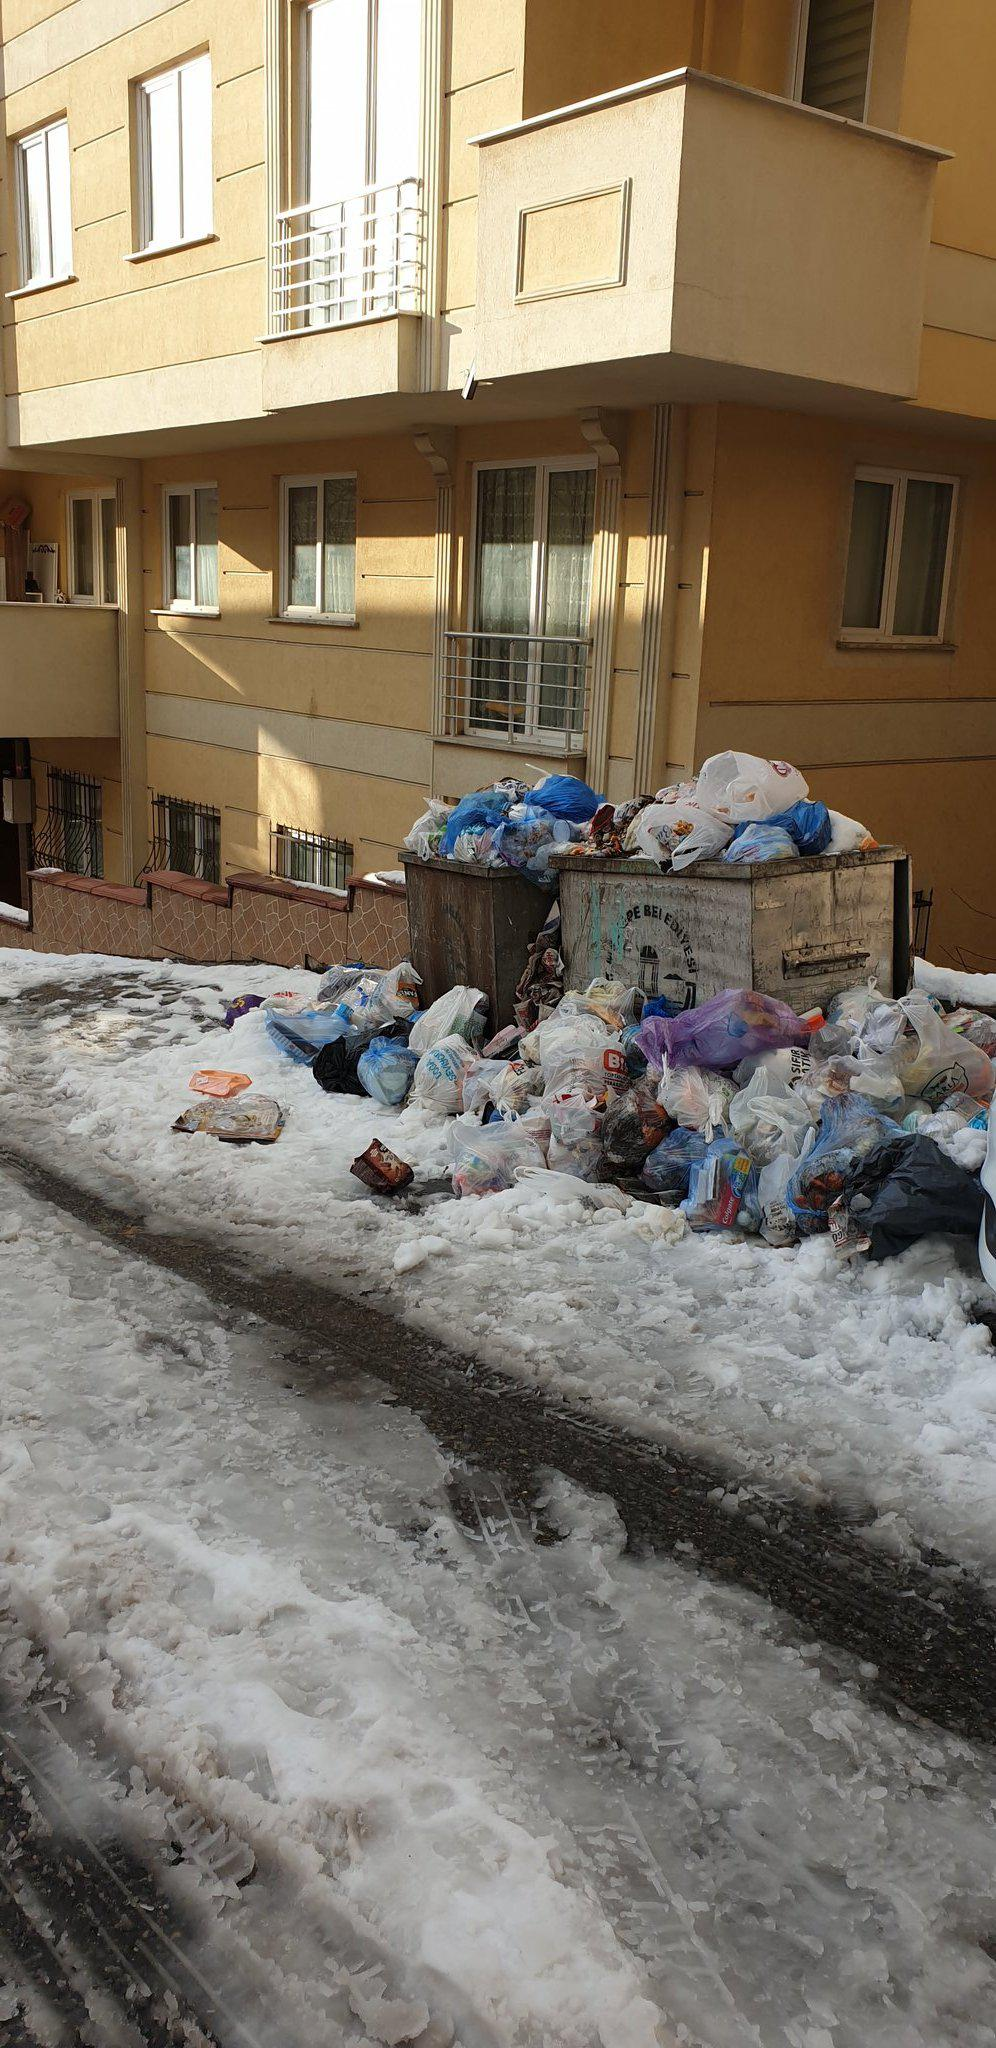Container: (563, 842, 918, 1021), (407, 850, 564, 1006)
Garbage: (335, 993, 996, 1310), (614, 756, 879, 856), (809, 1126, 996, 1253), (181, 1032, 322, 1174), (412, 776, 608, 862), (512, 1014, 615, 1149), (675, 1108, 771, 1249), (642, 1000, 837, 1051), (269, 987, 366, 1078), (402, 1021, 461, 1142), (364, 1136, 416, 1213)
